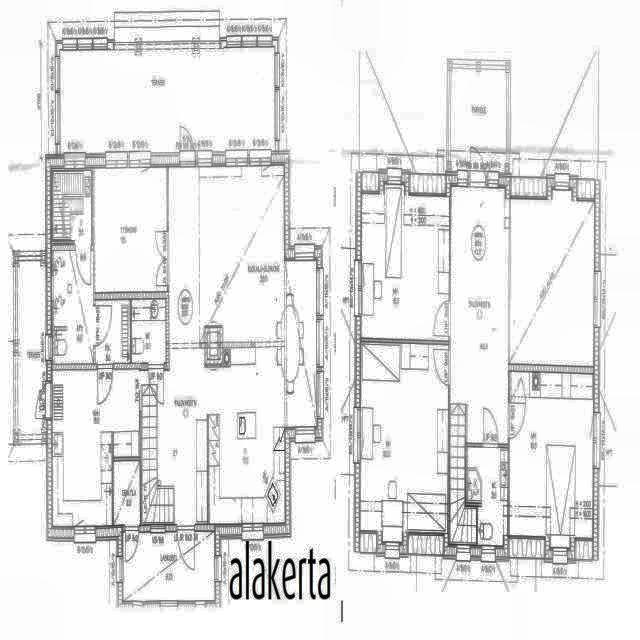room: (360, 344, 448, 543), (509, 189, 595, 366), (509, 371, 593, 548), (361, 184, 449, 340), (95, 167, 167, 293), (52, 250, 93, 364), (468, 448, 508, 545), (95, 300, 130, 364), (132, 299, 166, 363)
